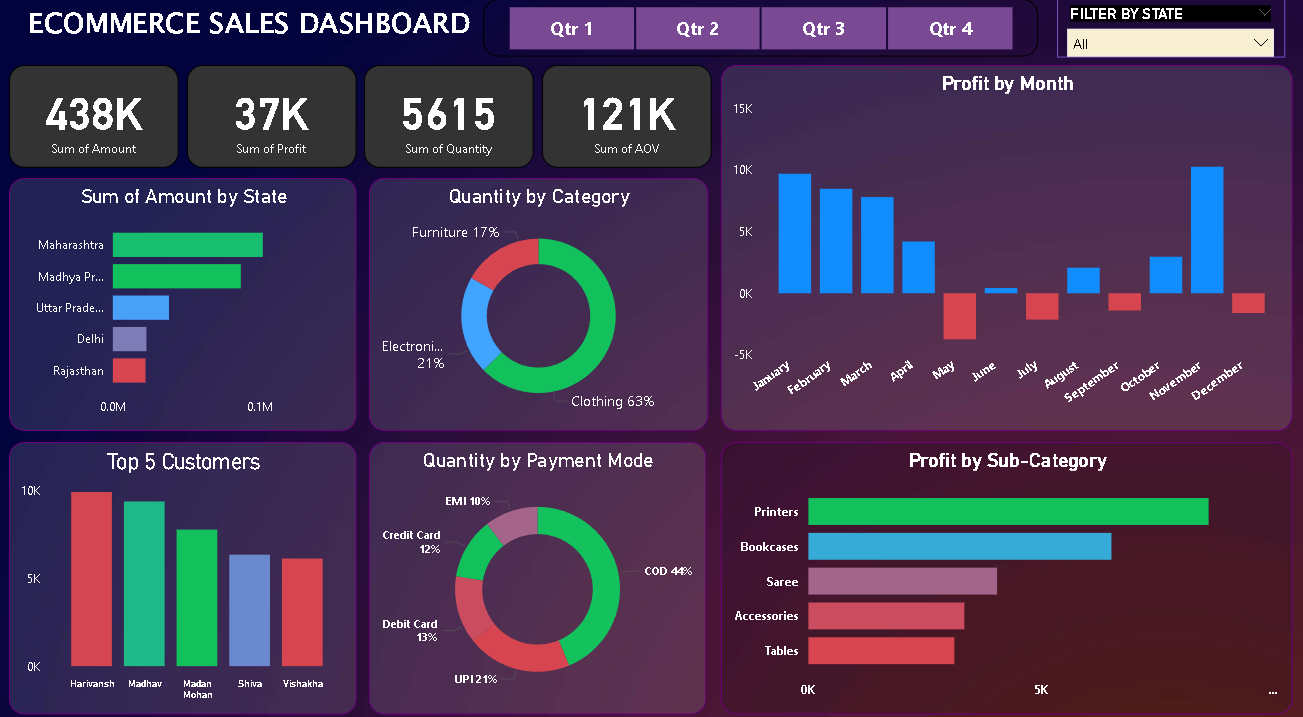

The dashboard page shown, as its layout file describes it:
{"tool":"powerbi","page":{"name":"Page 1","canvas":[1280,720],"ordinal":0},"visuals":[{"type":"columnChart","title":"Profit by Month","fields":{"Y":["Sum(product_details.Profit)"],"Category":["orders.Order Date.Variation.Date Hierarchy.Month"]},"box":[706.1,72,556.4,356],"z":0},{"type":"barChart","title":"Profit by Sub-Category","fields":{"Category":["product_details.Sub-Category"],"Y":["Sum(product_details.Profit)"]},"box":[706.1,438.7,556.4,264.6],"z":1000},{"type":"donutChart","title":"Quantity by Category","fields":{"Category":["product_details.Category"],"Y":["Sum(product_details.Quantity)"]},"box":[363.8,181.9,329.7,246.1],"z":2000},{"type":"donutChart","title":"Quantity by Payment Mode","fields":{"Y":["Sum(product_details.Quantity)"],"Category":["product_details.PaymentMode"]},"box":[363.8,438.7,327.8,264.6],"z":3000},{"type":"textbox","box":[6.8,7.8,481.5,57.4],"z":4000},{"type":"card","fields":{"Values":["Sum(product_details.Amount)"]},"box":[13.6,72,165,100],"z":5000},{"type":"card","fields":{"Values":["Sum(product_details.Profit)"]},"box":[186.4,72,165,100],"z":6000},{"type":"card","fields":{"Values":["Sum(product_details.Quantity)"]},"box":[359.2,72,165,100],"z":7000},{"type":"card","fields":{"Values":["Sum(product_details.AOV)"]},"box":[532,72,165,100],"z":8000},{"type":"barChart","fields":{"Category":["orders.State"],"Y":["Sum(product_details.Amount)"]},"box":[13.6,181.9,338.5,246.1],"z":9000},{"type":"columnChart","title":"Top 5 Customers","fields":{"Category":["orders.CustomerName"],"Y":["Sum(product_details.Amount)"]},"box":[14,439,338,265],"z":10000},{"type":"slicer","fields":{"Values":["orders.Order Date.Variation.Date Hierarchy.Quarter"]},"box":[474.7,7.8,539.8,56.4],"z":11000},{"type":"slicer","fields":{"Values":["orders.State"]},"box":[1033,7.8,222,57],"z":12000}]}

Visuals, with their boxes in screenshot pixels (x1, y1, x2, y2), scaled from the page's 1280x720 canvas onto the 1303x717 screenshot:
"Profit by Month" columnChart: {"x1": 719, "y1": 72, "x2": 1285, "y2": 426}
"Profit by Sub-Category" barChart: {"x1": 719, "y1": 437, "x2": 1285, "y2": 700}
"Quantity by Category" donutChart: {"x1": 370, "y1": 181, "x2": 706, "y2": 426}
"Quantity by Payment Mode" donutChart: {"x1": 370, "y1": 437, "x2": 704, "y2": 700}
textbox: {"x1": 7, "y1": 8, "x2": 497, "y2": 65}
card - Sum(product_details.Amount): {"x1": 14, "y1": 72, "x2": 182, "y2": 171}
card - Sum(product_details.Profit): {"x1": 190, "y1": 72, "x2": 358, "y2": 171}
card - Sum(product_details.Quantity): {"x1": 366, "y1": 72, "x2": 534, "y2": 171}
card - Sum(product_details.AOV): {"x1": 542, "y1": 72, "x2": 710, "y2": 171}
barChart - orders.State x Sum(product_details.Amount): {"x1": 14, "y1": 181, "x2": 358, "y2": 426}
"Top 5 Customers" columnChart: {"x1": 14, "y1": 437, "x2": 358, "y2": 701}
slicer - orders.Order Date.Variation.Date Hierarchy.Quarter: {"x1": 483, "y1": 8, "x2": 1033, "y2": 64}
slicer - orders.State: {"x1": 1052, "y1": 8, "x2": 1278, "y2": 65}
